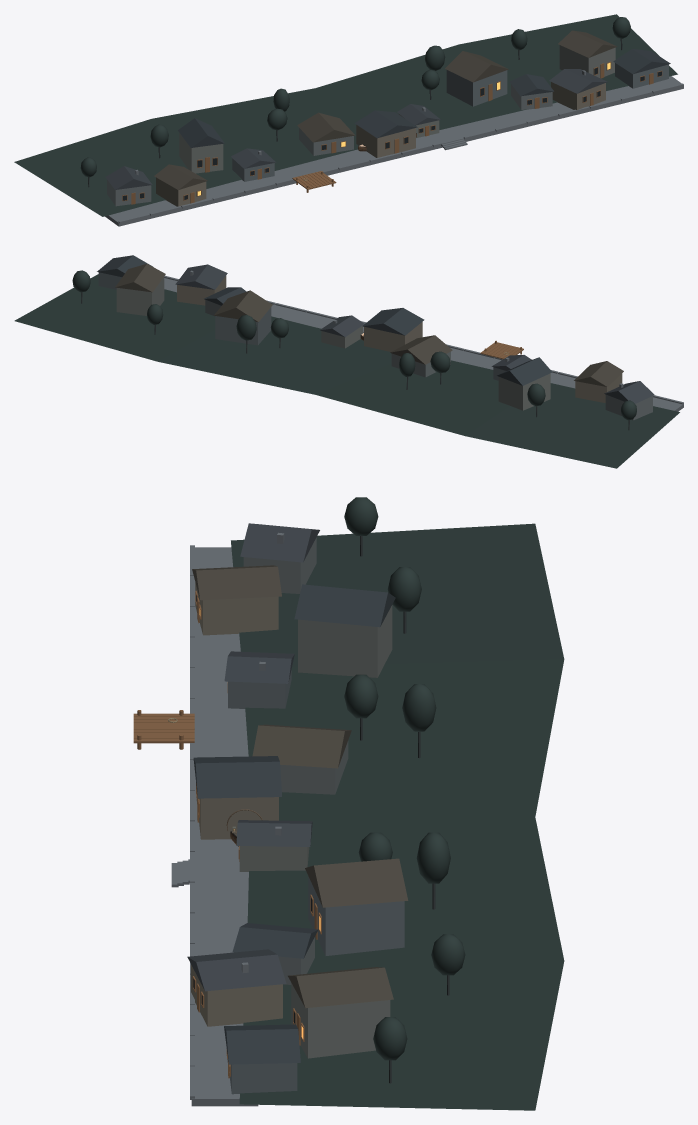
File: river-life-v008.glb
3 views of the same model, one above another, from view 1: azimuth 30°, elevation 25°; view 2: azimuth 150°, elevation 25°; view 3: azimuth 270°, elevation 25° (orthographic). The views are drawn at different scales.
Visible parts, largest first — view 1: Shore_Village | v008 muted far-bank foliage, Shore_Village | charcoal pitched roofs, Shore_Village | quiet weathered plaster, Shore_Village | old quay granite, Shore_Village | weathered warm timber, Shore_Village | dark inactive windows; view 2: Shore_Village | v008 muted far-bank foliage, Shore_Village | charcoal pitched roofs, Shore_Village | quiet weathered plaster, Shore_Village | old quay granite, Shore_Village | weathered warm timber; view 3: Shore_Village | v008 muted far-bank foliage, Shore_Village | charcoal pitched roofs, Shore_Village | quiet weathered plaster, Shore_Village | old quay granite, Shore_Village | weathered warm timber.
Boxes of the visible parts, x1=… form: Shore_Village | v008 muted far-bank foliage: x1=14, y1=14, x2=677, y2=216; Shore_Village | charcoal pitched roofs: x1=105, y1=30, x2=670, y2=189; Shore_Village | quiet weathered plaster: x1=107, y1=45, x2=668, y2=206; Shore_Village | old quay granite: x1=105, y1=70, x2=683, y2=226; Shore_Village | weathered warm timber: x1=122, y1=61, x2=662, y2=204; Shore_Village | dark inactive windows: x1=123, y1=67, x2=661, y2=200; Shore_Village | v008 muted far-bank foliage: x1=14, y1=270, x2=679, y2=468; Shore_Village | charcoal pitched roofs: x1=97, y1=255, x2=654, y2=403; Shore_Village | quiet weathered plaster: x1=98, y1=272, x2=652, y2=420; Shore_Village | old quay granite: x1=164, y1=270, x2=683, y2=411; Shore_Village | weathered warm timber: x1=480, y1=340, x2=523, y2=359; Shore_Village | v008 muted far-bank foliage: x1=231, y1=497, x2=564, y2=1110; Shore_Village | charcoal pitched roofs: x1=187, y1=523, x2=408, y2=1064; Shore_Village | quiet weathered plaster: x1=191, y1=537, x2=404, y2=1094; Shore_Village | old quay granite: x1=171, y1=532, x2=284, y2=1106; Shore_Village | weathered warm timber: x1=133, y1=590, x2=321, y2=1078.
Size of the model in its own units: 96 by 6.83 by 29.7.
17 materials, 2 textured.
